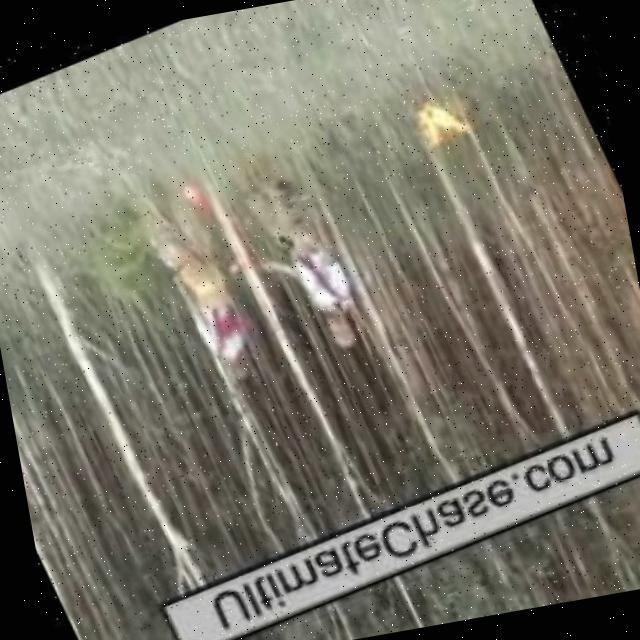fire: (413, 85, 488, 156), (188, 175, 219, 207)
